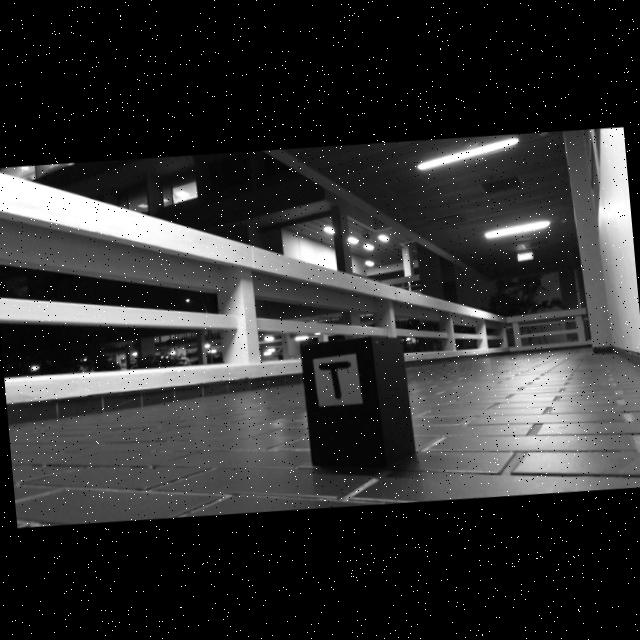T: (319, 359, 350, 397)
